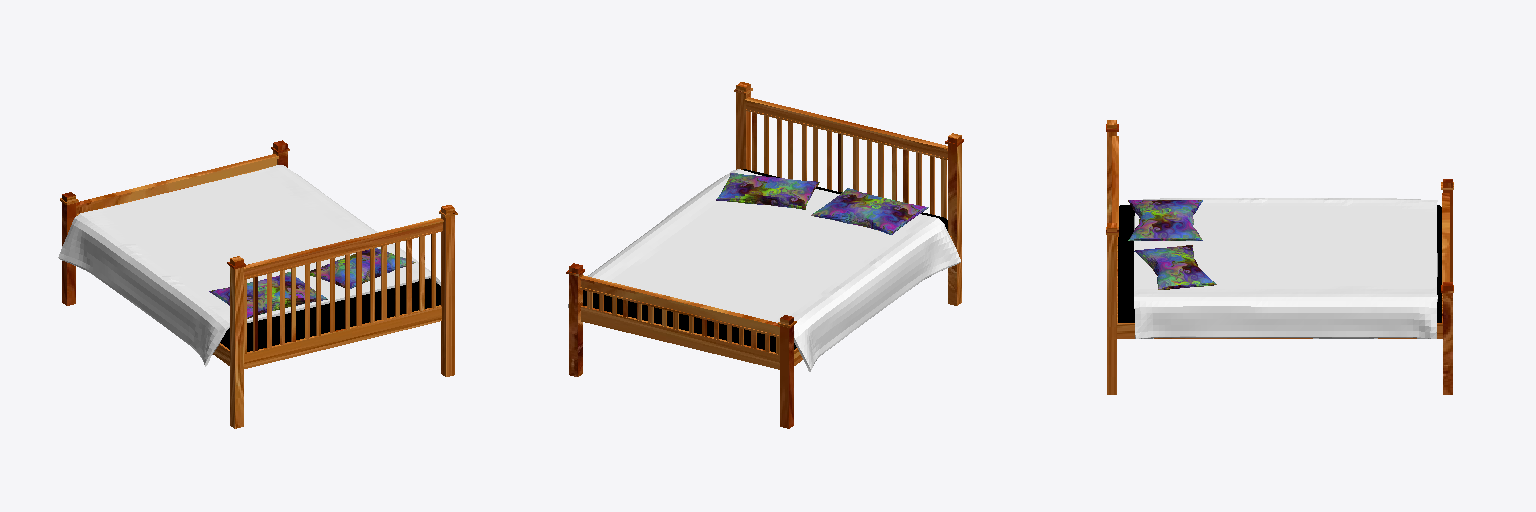
3 renders of one model, left to right at view 1: azimuth 30°, elevation 25°; view 2: azimuth 150°, elevation 25°; view 3: azimuth 270°, elevation 25°, orthographic.
Visible parts, largest first — view 1: cama:mattress1bed2; view 2: cama:mattress1bed2; view 3: cama:mattress1bed2.
Boxes of the visible parts, <box> form: cama:mattress1bed2: <box>58,140,457,428</box>; cama:mattress1bed2: <box>566,82,963,428</box>; cama:mattress1bed2: <box>1106,120,1453,394</box>.
Size of the model in its own units: 0.8636 by 0.5633 by 1.07.
4 materials, 3 textured.